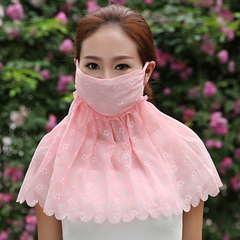face_mask: (76, 28, 142, 115)
